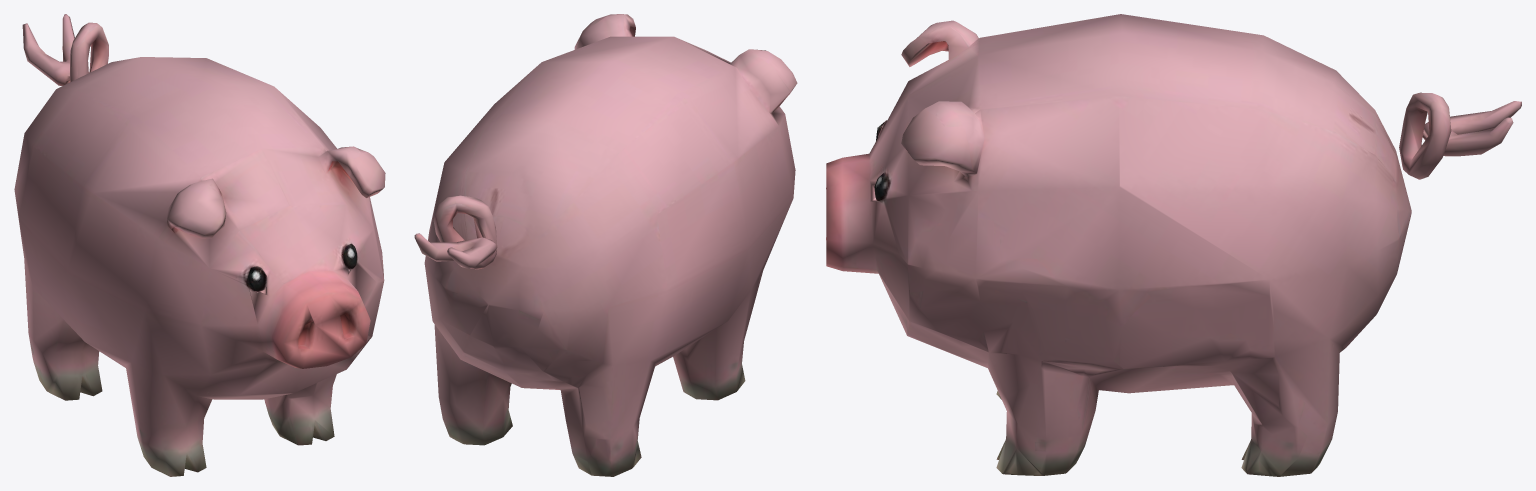
Rendered from pig.glb.
3 views of the same model, side by side, from view 1: azimuth 30°, elevation 25°; view 2: azimuth 150°, elevation 25°; view 3: azimuth 270°, elevation 25° (orthographic). The views are drawn at different scales.
Parts seen in each view (by area): view 1: node_0; view 2: node_0; view 3: node_0.
Part boxes in pixels (left/top/right/bottom): node_0: left=14, top=14, right=385, bottom=476; node_0: left=414, top=14, right=797, bottom=476; node_0: left=826, top=14, right=1521, bottom=476.
Size of the model in its own units: 0.5892 by 0.6986 by 1.12.
1 material, 1 textured.
